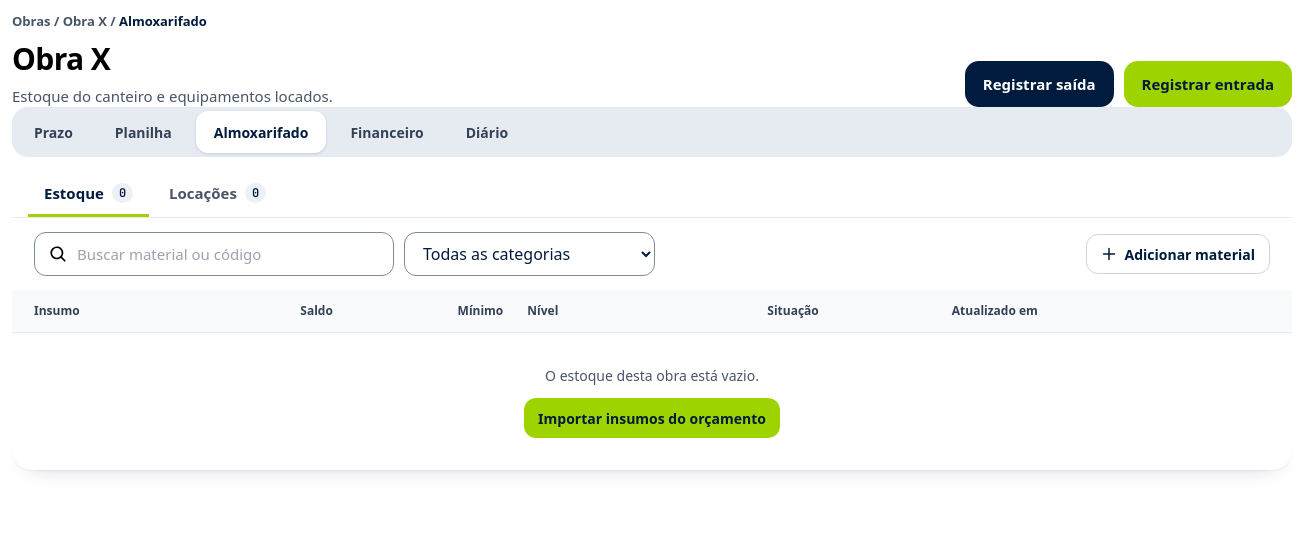
Test: não cria dados fictícios e importa os insumos do orçamento zerados
Expected: the text "O estoque desta obra está vazio." is shown, [545,366,759,385]
Click the button "Importar insumos do orçamento".
click(652, 418)  # box [524,398,780,438]
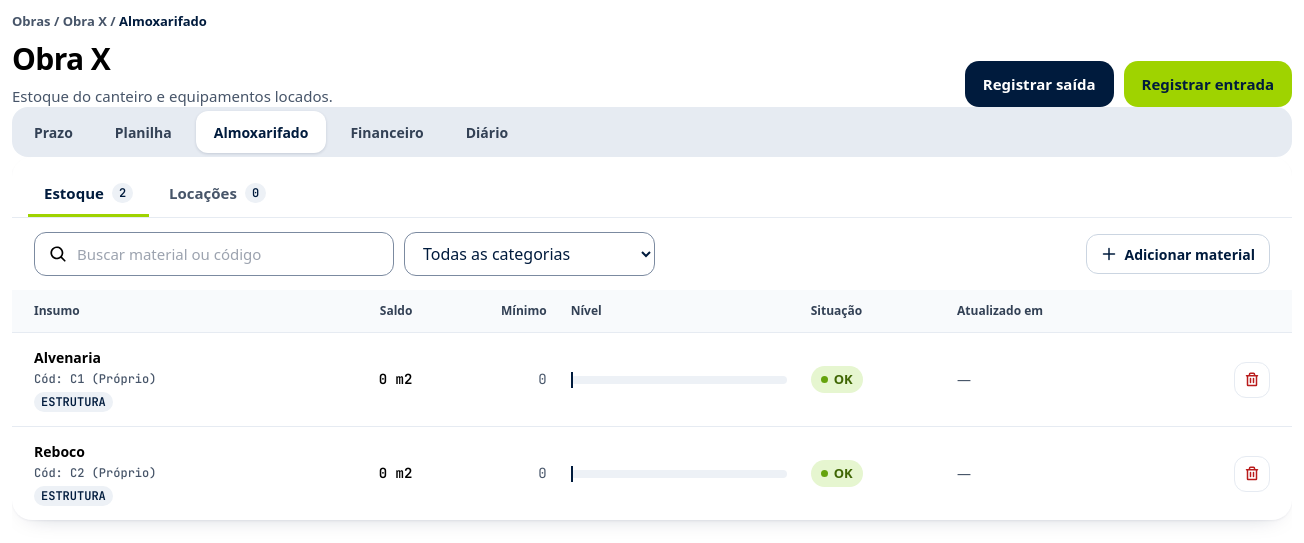
Expected: the text "Alvenaria" is shown, [34,348,101,367]
